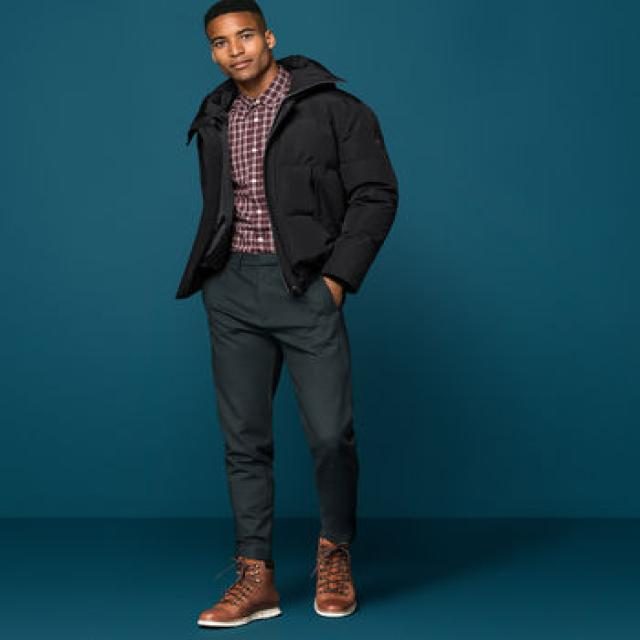mobile_phonerotation: (172, 0, 400, 629)
